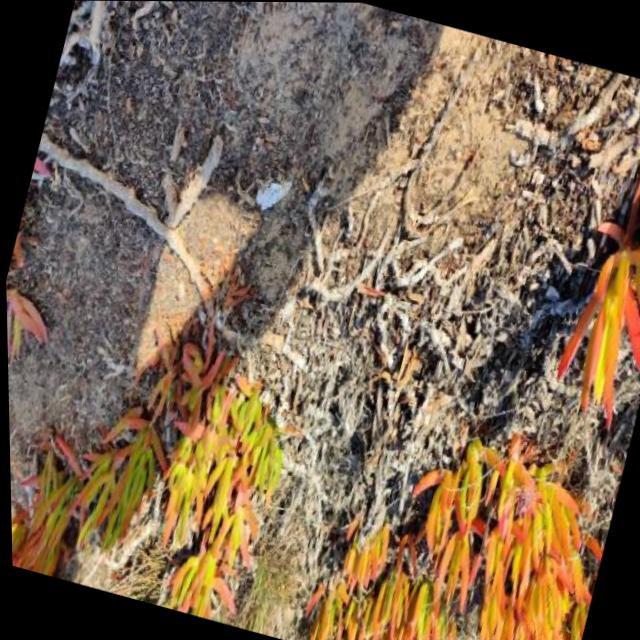metal: (251, 171, 295, 218)
